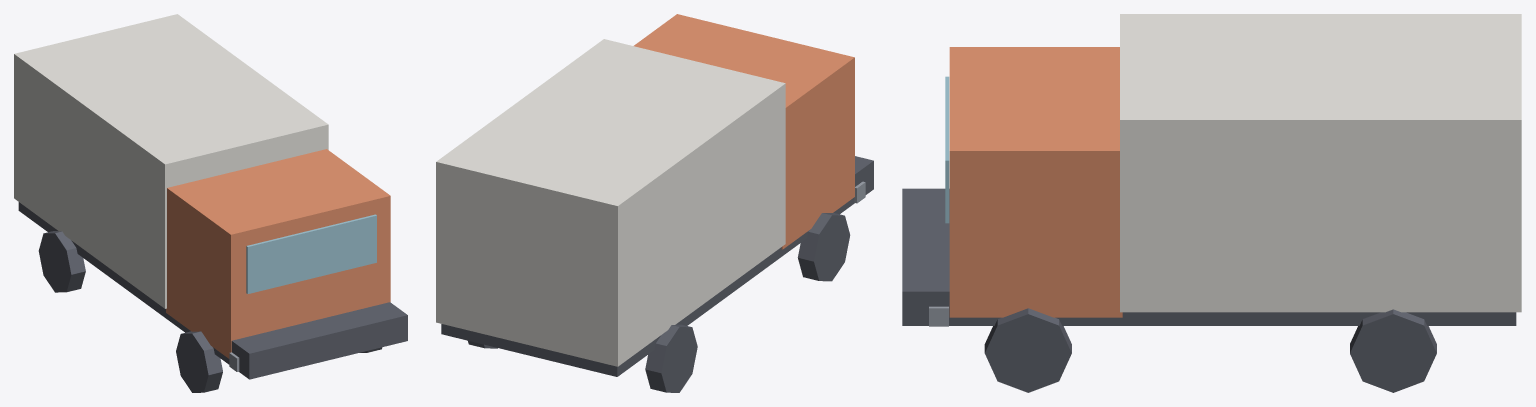
The picture shows the model from 3 angles, left to right: view 1: azimuth 30°, elevation 25°; view 2: azimuth 150°, elevation 25°; view 3: azimuth 270°, elevation 25°; orthographic projection. The views are drawn at different scales.
Parts seen in each view (by area): view 1: Cargo, Cab, Chassis, Windshield, Wheel.1, Wheel.3; view 2: Cargo, Cab, Chassis, Wheel.1, Wheel.3; view 3: Cargo, Cab, Chassis, Wheel.2, Wheel.4, Windshield.
Part boxes in pixels (x1,y1,x2,y2): Cargo: (14,14,328,308); Cab: (166,149,390,358); Chassis: (18,202,407,379); Windshield: (246,214,376,293); Wheel.1: (176,331,222,392); Wheel.3: (38,231,85,292); Cargo: (436,39,785,366); Cab: (634,14,854,249); Chassis: (441,156,873,376); Wheel.1: (797,213,850,281); Wheel.3: (645,324,697,392); Cargo: (1120,14,1521,312); Cab: (949,47,1122,317); Chassis: (902,188,1516,325); Wheel.2: (984,308,1071,392); Wheel.4: (1350,309,1436,392); Windshield: (945,76,949,223).
Bounding box in the file's own units: 2.45 × 2.65 × 5.55.
